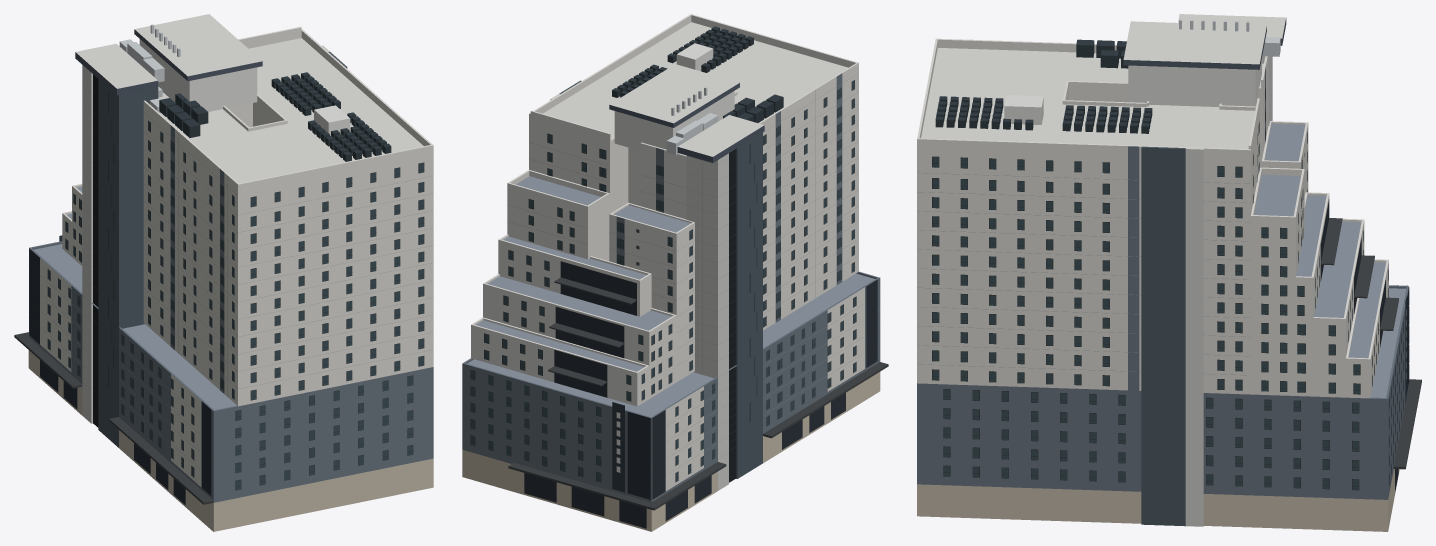
Rendered from skyloft-austin-look.glb.
3 renders of one model, left to right at view 1: azimuth 30°, elevation 25°; view 2: azimuth 150°, elevation 25°; view 3: azimuth 270°, elevation 25°, orthographic. The views are drawn at different scales.
Visible parts, largest first — view 1: n_wall_white_panel, n_wall_grey_panel, n_roof_membrane, n_glass_window, n_metal_ribbed_dark, n_ground_stone, n_window_frame, n_mech_dark, n_mech_white, n_concrete_pier, n_roof_membrane_lower, n_glass_storefront (+5 smaller); view 2: n_wall_white_panel, n_wall_grey_panel, n_roof_membrane, n_glass_storefront, n_glass_window, n_window_frame, n_roof_membrane_lower, n_concrete_pier, n_metal_ribbed_dark, n_ground_stone, n_canopy_dark, n_mech_dark (+6 smaller); view 3: n_wall_white_panel, n_wall_grey_panel, n_roof_membrane, n_glass_window, n_metal_ribbed_dark, n_ground_stone, n_roof_membrane_lower, n_window_frame, n_concrete_pier, n_mech_white, n_mech_dark, n_canopy_dark (+4 smaller).
Boxes of the visible parts, x1,y1,x2,y2 form: n_wall_white_panel: (40, 26, 433, 486); n_wall_grey_panel: (29, 125, 433, 531); n_roof_membrane: (76, 14, 423, 183); n_glass_window: (47, 92, 423, 489); n_metal_ribbed_dark: (98, 51, 347, 447); n_ground_stone: (28, 350, 433, 531); n_window_frame: (29, 74, 424, 504); n_mech_dark: (159, 72, 391, 161); n_mech_white: (139, 39, 350, 135); n_concrete_pier: (82, 45, 329, 423); n_roof_membrane_lower: (33, 186, 236, 409); n_glass_storefront: (29, 249, 210, 504); n_wall_white_panel: (471, 14, 864, 491); n_wall_grey_panel: (462, 73, 880, 502); n_roof_membrane: (543, 22, 848, 156); n_glass_storefront: (524, 262, 877, 527); n_glass_window: (470, 80, 856, 481); n_window_frame: (470, 80, 877, 528); n_roof_membrane_lower: (467, 176, 875, 416); n_concrete_pier: (550, 94, 728, 490); n_metal_ribbed_dark: (559, 80, 762, 478); n_ground_stone: (462, 372, 880, 531); n_canopy_dark: (508, 277, 888, 510); n_mech_dark: (612, 26, 783, 122); n_wall_white_panel: (917, 38, 1388, 398); n_wall_grey_panel: (917, 66, 1408, 499); n_roof_membrane: (921, 14, 1285, 149); n_glass_window: (932, 88, 1403, 489); n_metal_ribbed_dark: (1141, 146, 1185, 526); n_ground_stone: (917, 469, 1399, 531); n_roof_membrane_lower: (1254, 123, 1405, 397); n_window_frame: (932, 87, 1408, 491); n_concrete_pier: (1185, 56, 1272, 526); n_mech_white: (1004, 59, 1261, 124); n_mech_dark: (935, 39, 1152, 133); n_canopy_dark: (1320, 218, 1421, 469).
Bounding box in the file's own units: 42.21 × 62.3 × 67.28.
